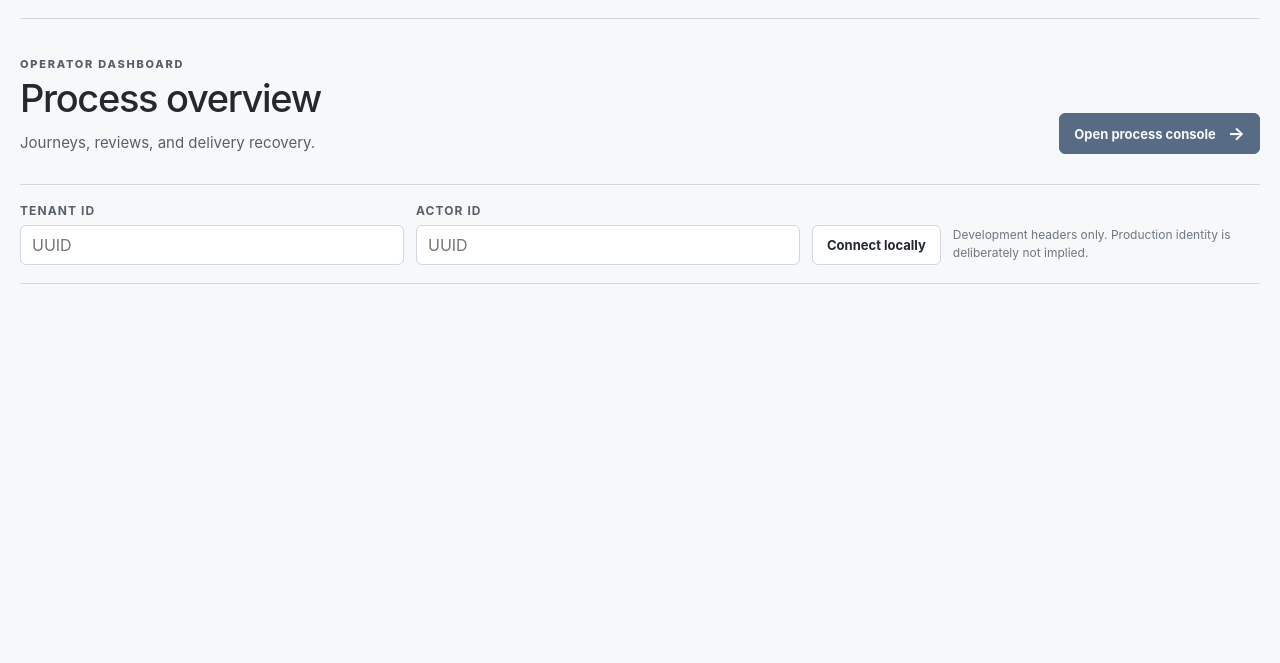
Test case: operator dashboard › summarises the tenant's durable work and links to the process console
Step 1. Type "tenant-id" into the field with test id "tenant-id" → (212, 245), box x1=20 y1=225 x2=404 y2=265
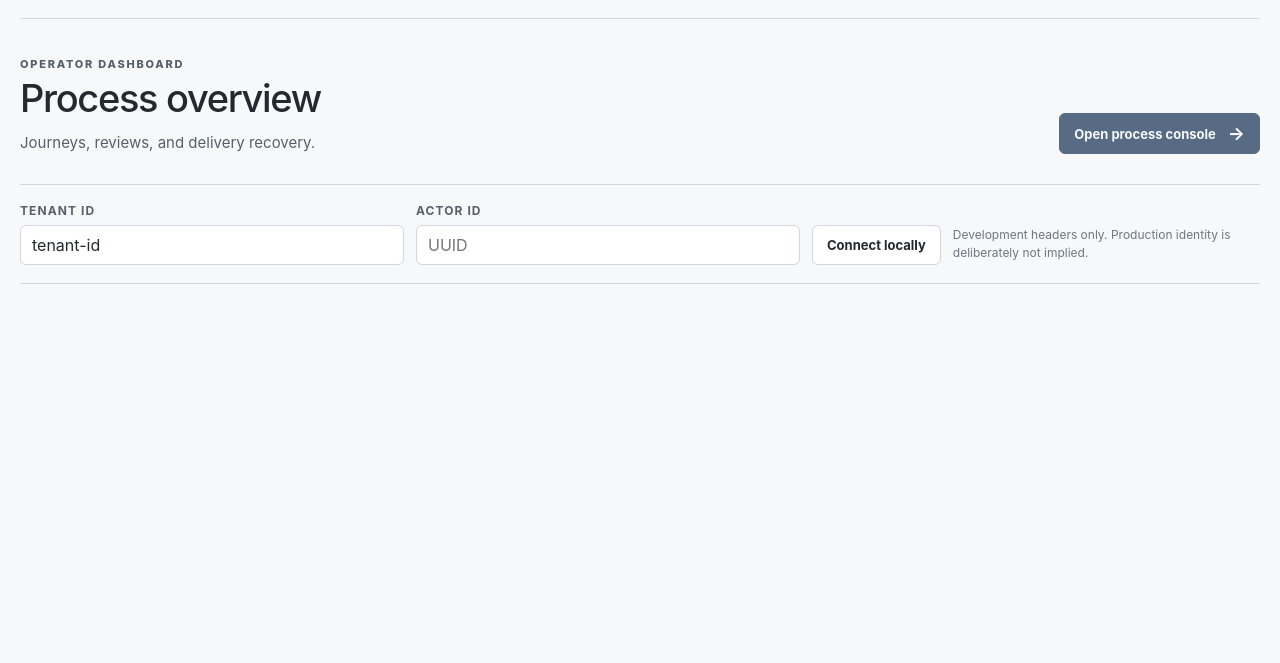
Step 2. Type "actor-id" into the field with test id "actor-id" → (608, 245), box x1=416 y1=225 x2=800 y2=265
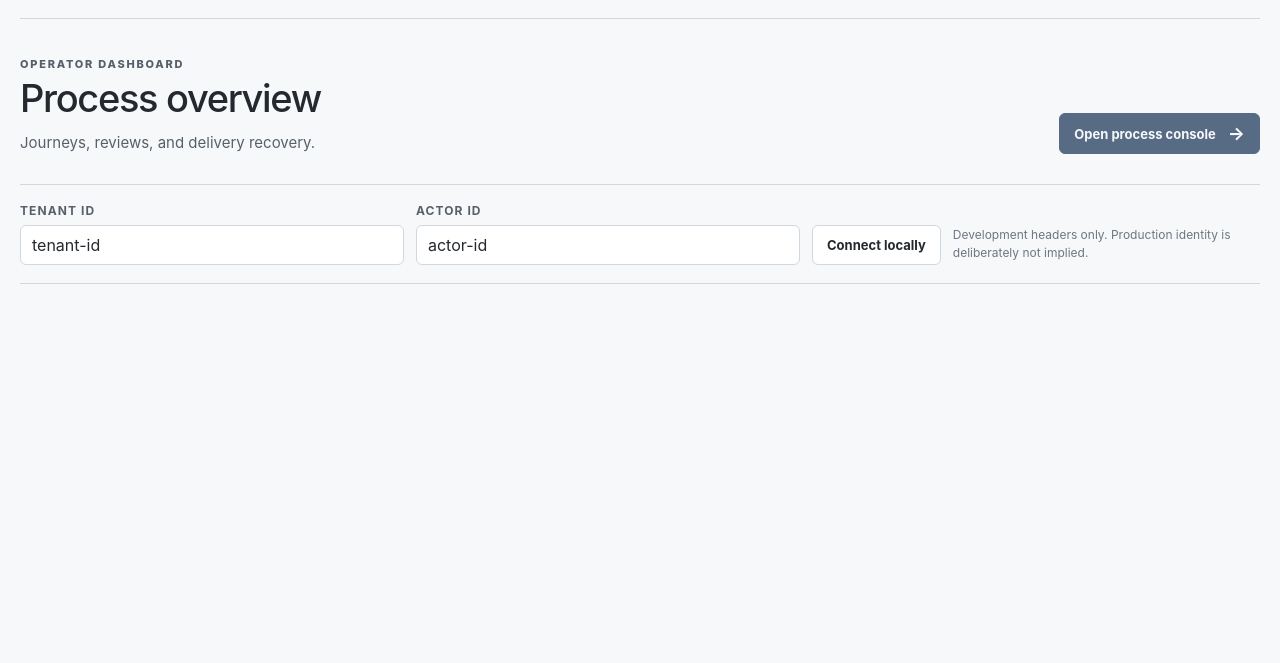
Step 3. Submit the form, box x1=20 y1=184 x2=1260 y2=284
(page scrolled)
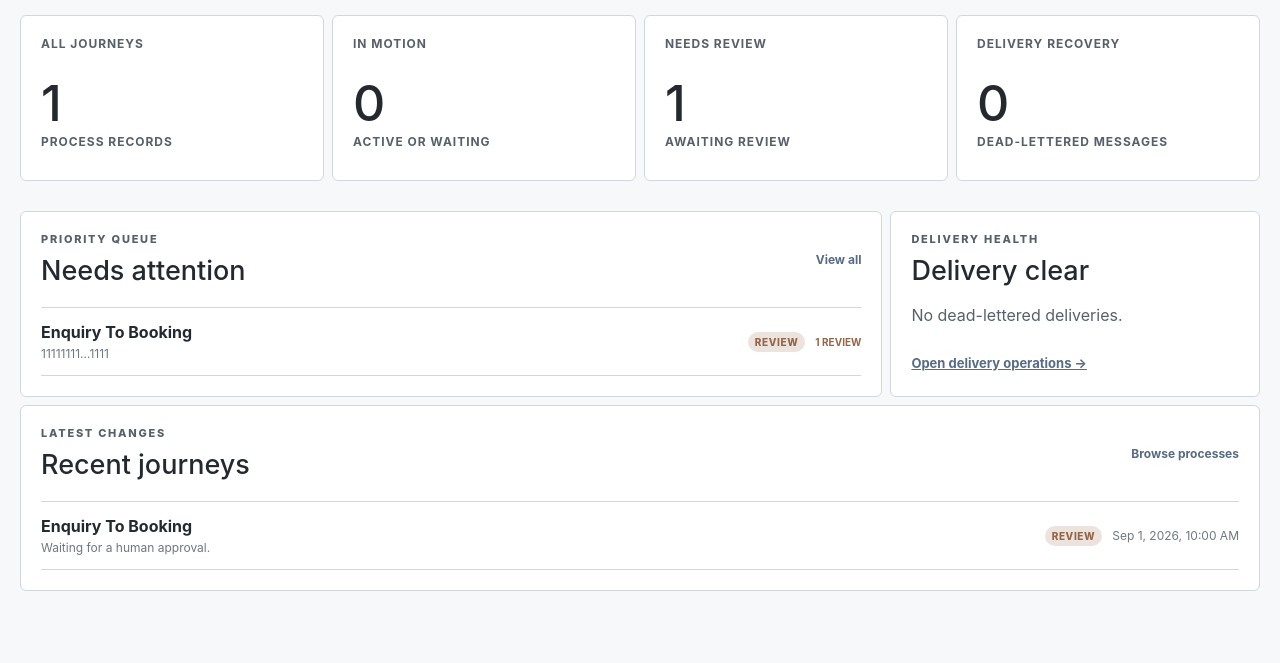
Check: the text "All journeys" is shown, box x1=41 y1=36 x2=144 y2=51
Check: the text "Needs attention" is shown, box x1=41 y1=254 x2=246 y2=287
Check: the text "enquiry to booking" is shown, box x1=41 y1=322 x2=192 y2=342
